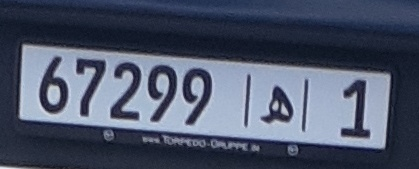1: (333, 76, 374, 143)
2: (108, 57, 143, 122)
6: (36, 54, 70, 118)
7: (72, 54, 108, 120)
9: (179, 65, 216, 131), (145, 62, 179, 124)
h: (256, 78, 297, 133)
